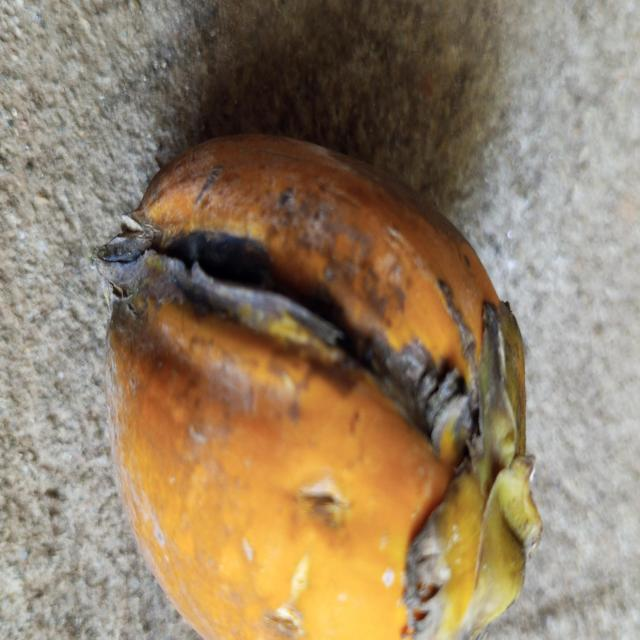damaged: (96, 135, 542, 640)
